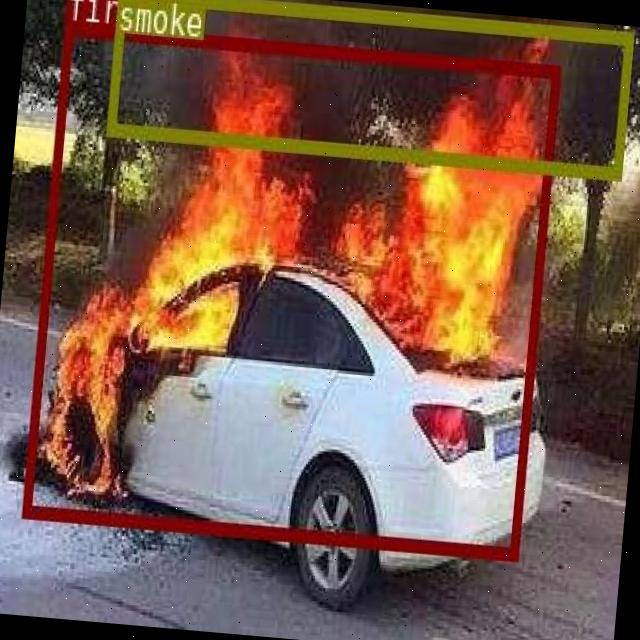fire: (20, 21, 558, 556)
smoke: (105, 0, 630, 176)
